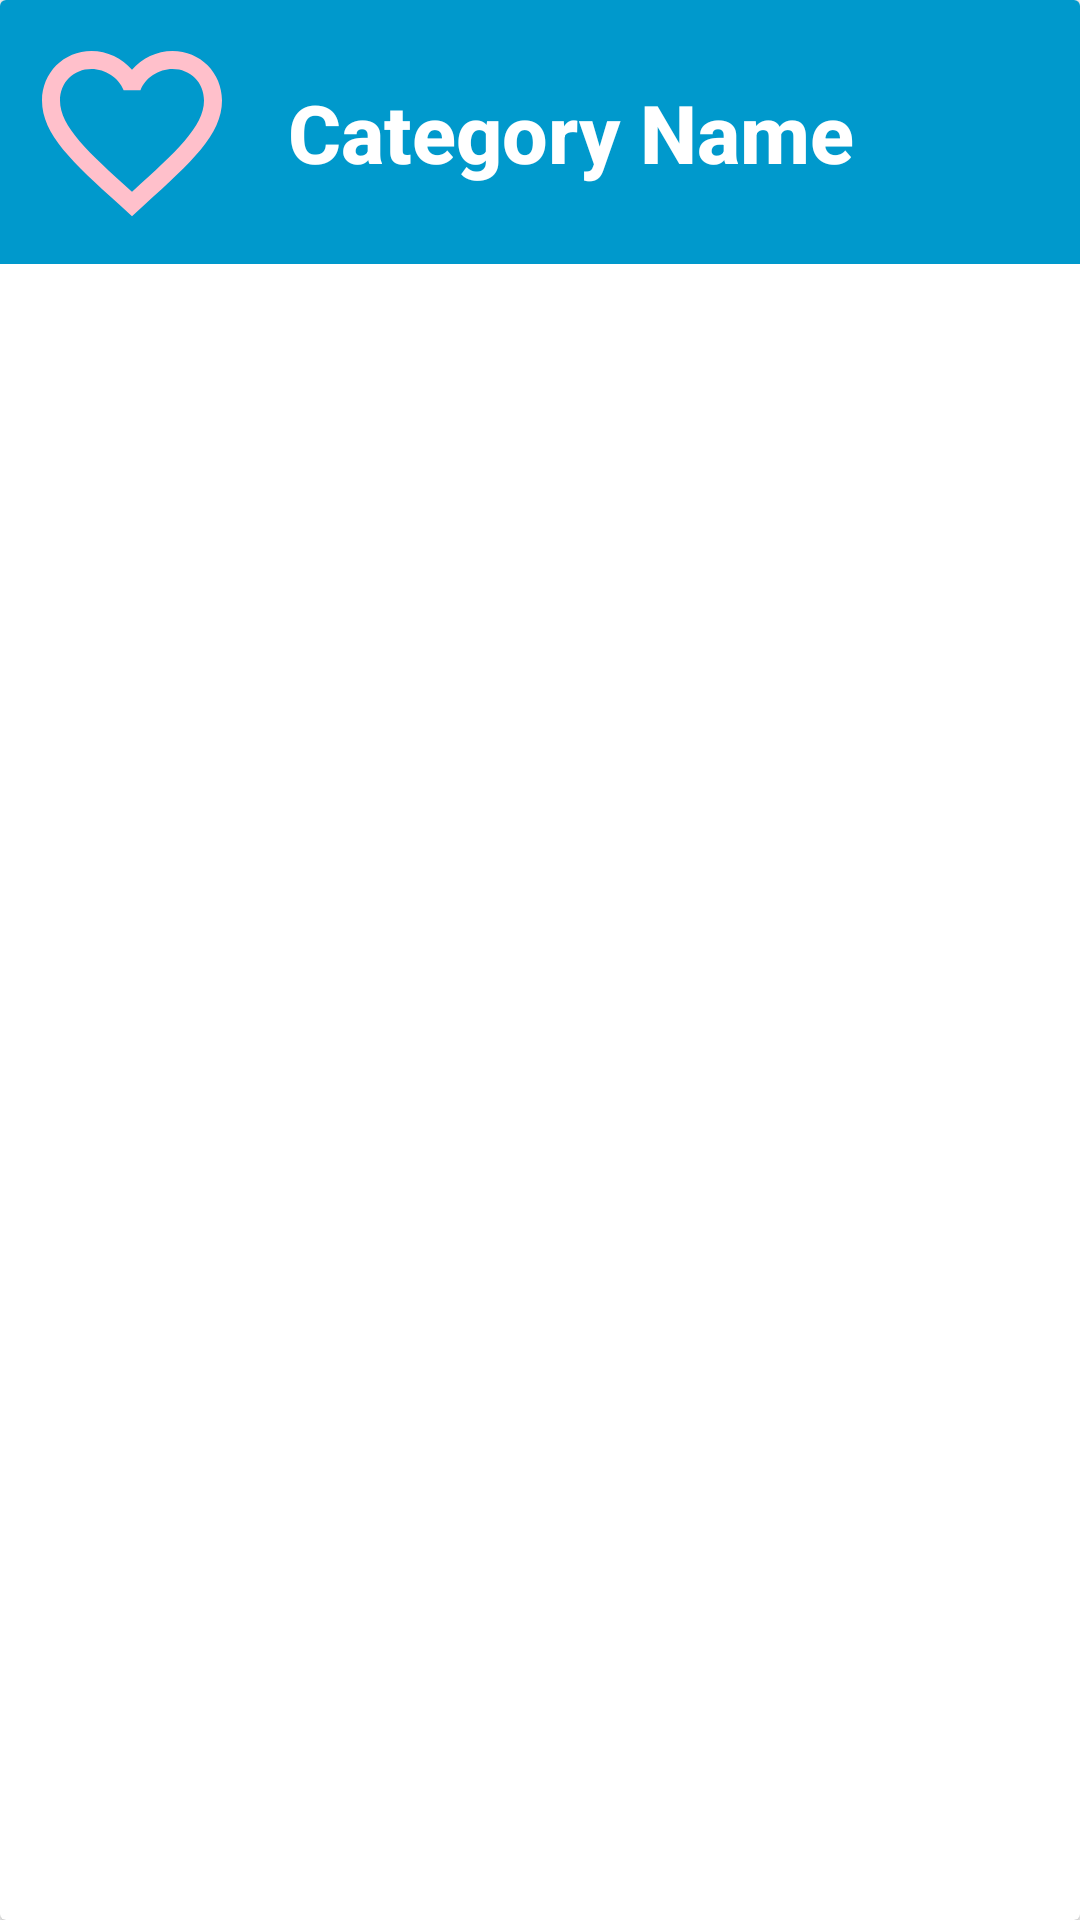

Named icons in this screenshot (1080x1920) and their centers, point (x, y):
favorite border lower: point (132, 133)
